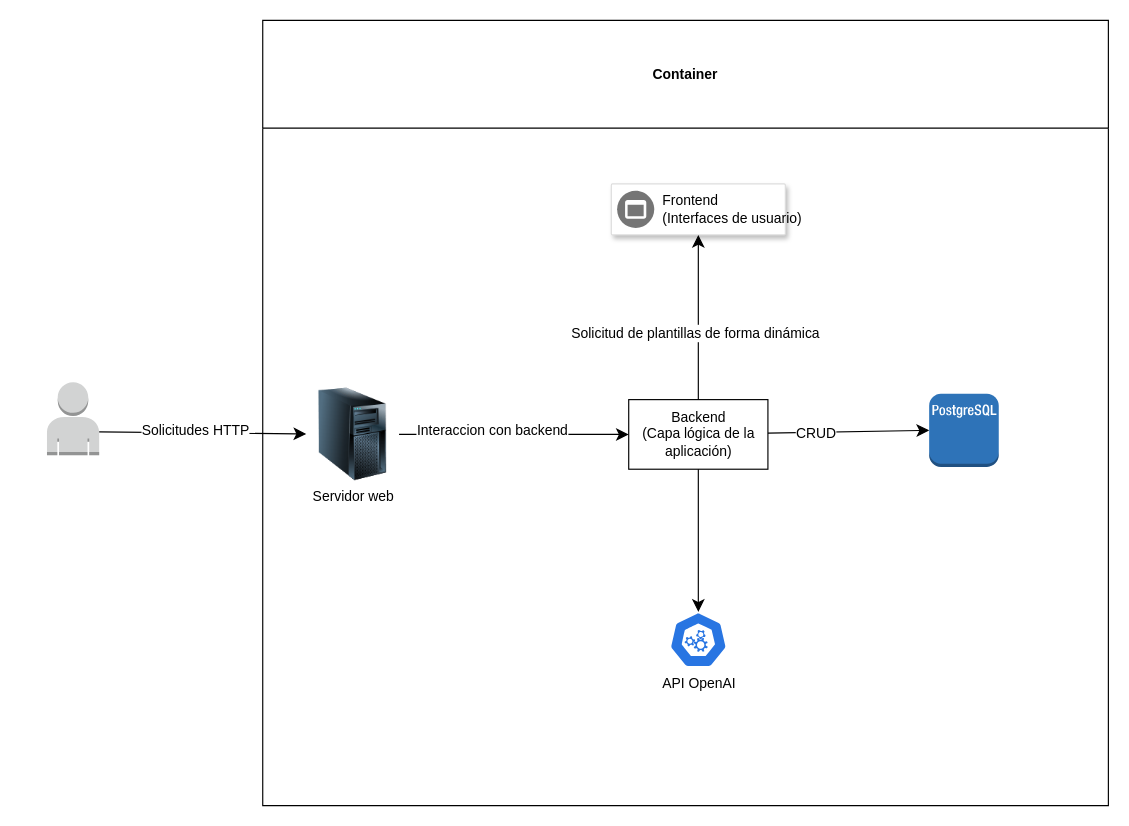
Some shapes in this 1129 by 826 pixel diagram are drawn without their labels. Here are the shapes that lost their labels. From the top down, the centre of each, then its label:
(72,418): Usuario (Navegador web)
(963,430): Base de datos (Sistema de base de datos PostrgeSQL)
